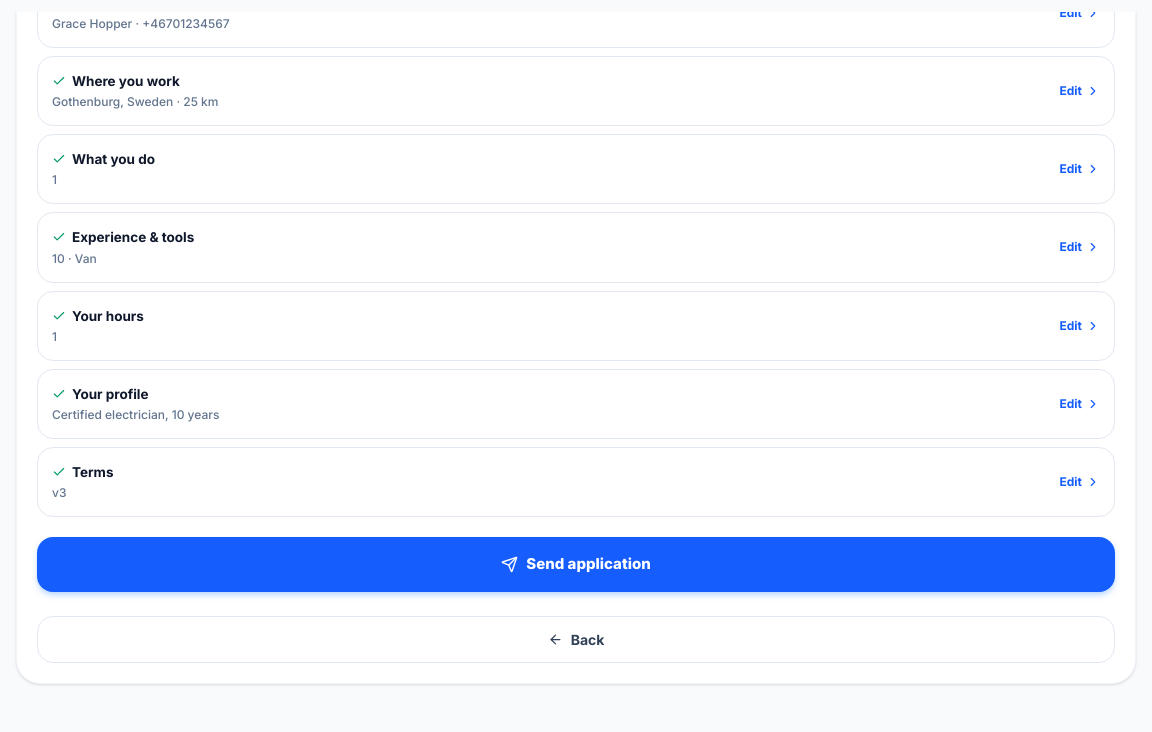
Scenario: after submitting › does NOT tell the provider they are approved
(page scrolled)
Click the button "Send application" at (576, 565), box 37,537 -> 1115,592
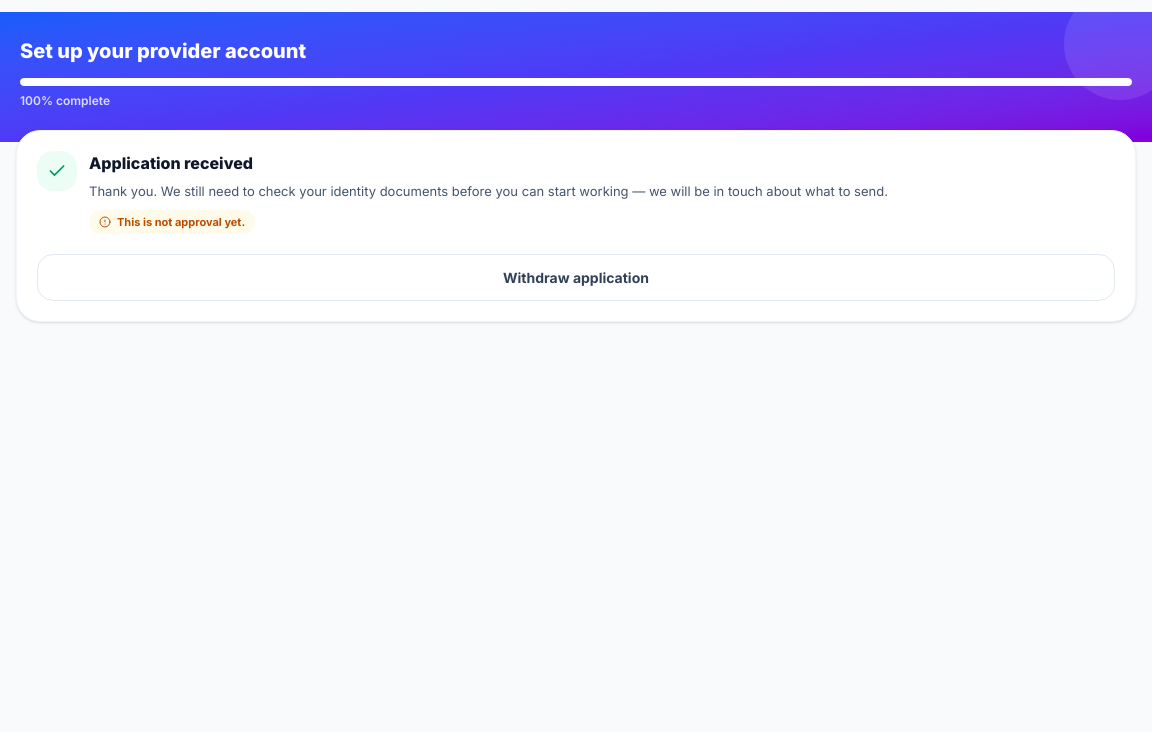
Check: the heading "Application received" is shown, box 89,153 -> 253,173
